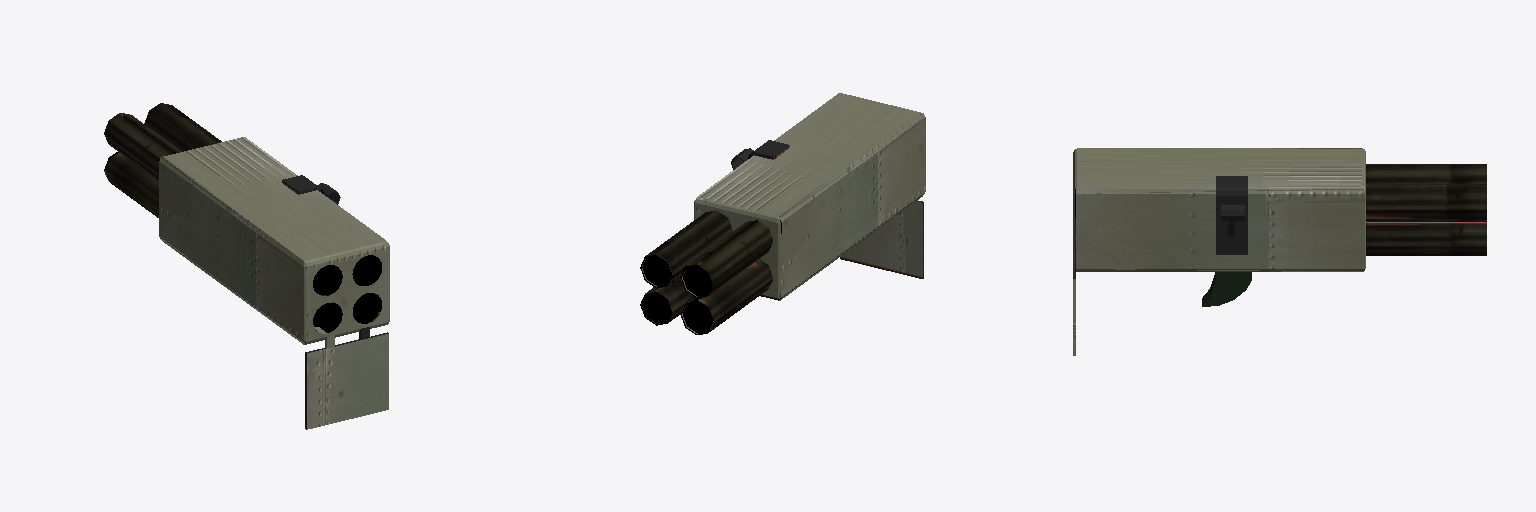
3 renders of one model, left to right at view 1: azimuth 30°, elevation 25°; view 2: azimuth 150°, elevation 25°; view 3: azimuth 270°, elevation 25°, orthographic.
Visible parts, largest first — view 1: box.001_Cube.003; view 2: box.001_Cube.003; view 3: box.001_Cube.003.
Part boxes in pixels (bbox=[...]): box.001_Cube.003: bbox=[104, 103, 389, 429]; box.001_Cube.003: bbox=[640, 93, 925, 334]; box.001_Cube.003: bbox=[1073, 148, 1486, 355].
Bounding box in the file's own units: 1.87 × 2.77 × 6.11.
1 materials, 1 textured.